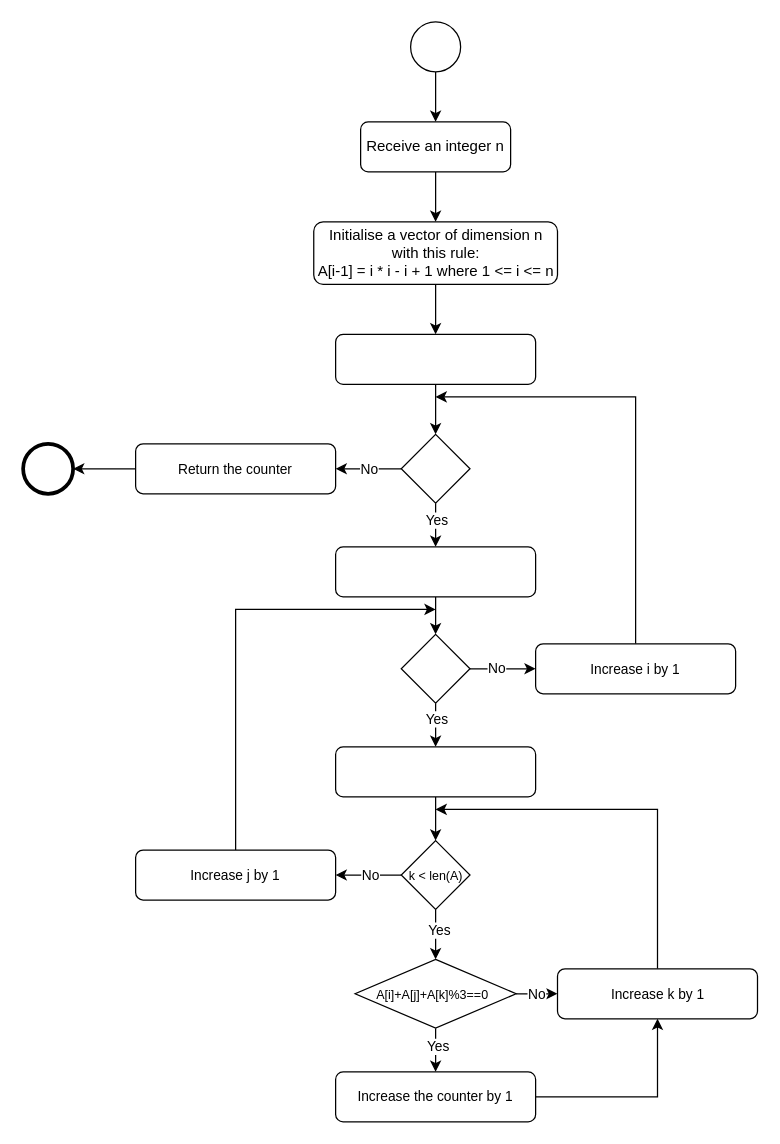
Image size: 780x1144. Some labels were removed from this diagram. The shapes that lost their labels are listed below. From the top down, each one's box as (x1, y1, x2, y2) in pixels, then its label:
(334, 333, 536, 384): Initialise a counter equal to 0 and i equal to 1
(400, 433, 470, 503): i < len(A)
(334, 546, 536, 597): Initialise j equal to i + 1
(400, 633, 470, 703): j < len(A)
(334, 746, 536, 797): Initialise k equal to j + 1
